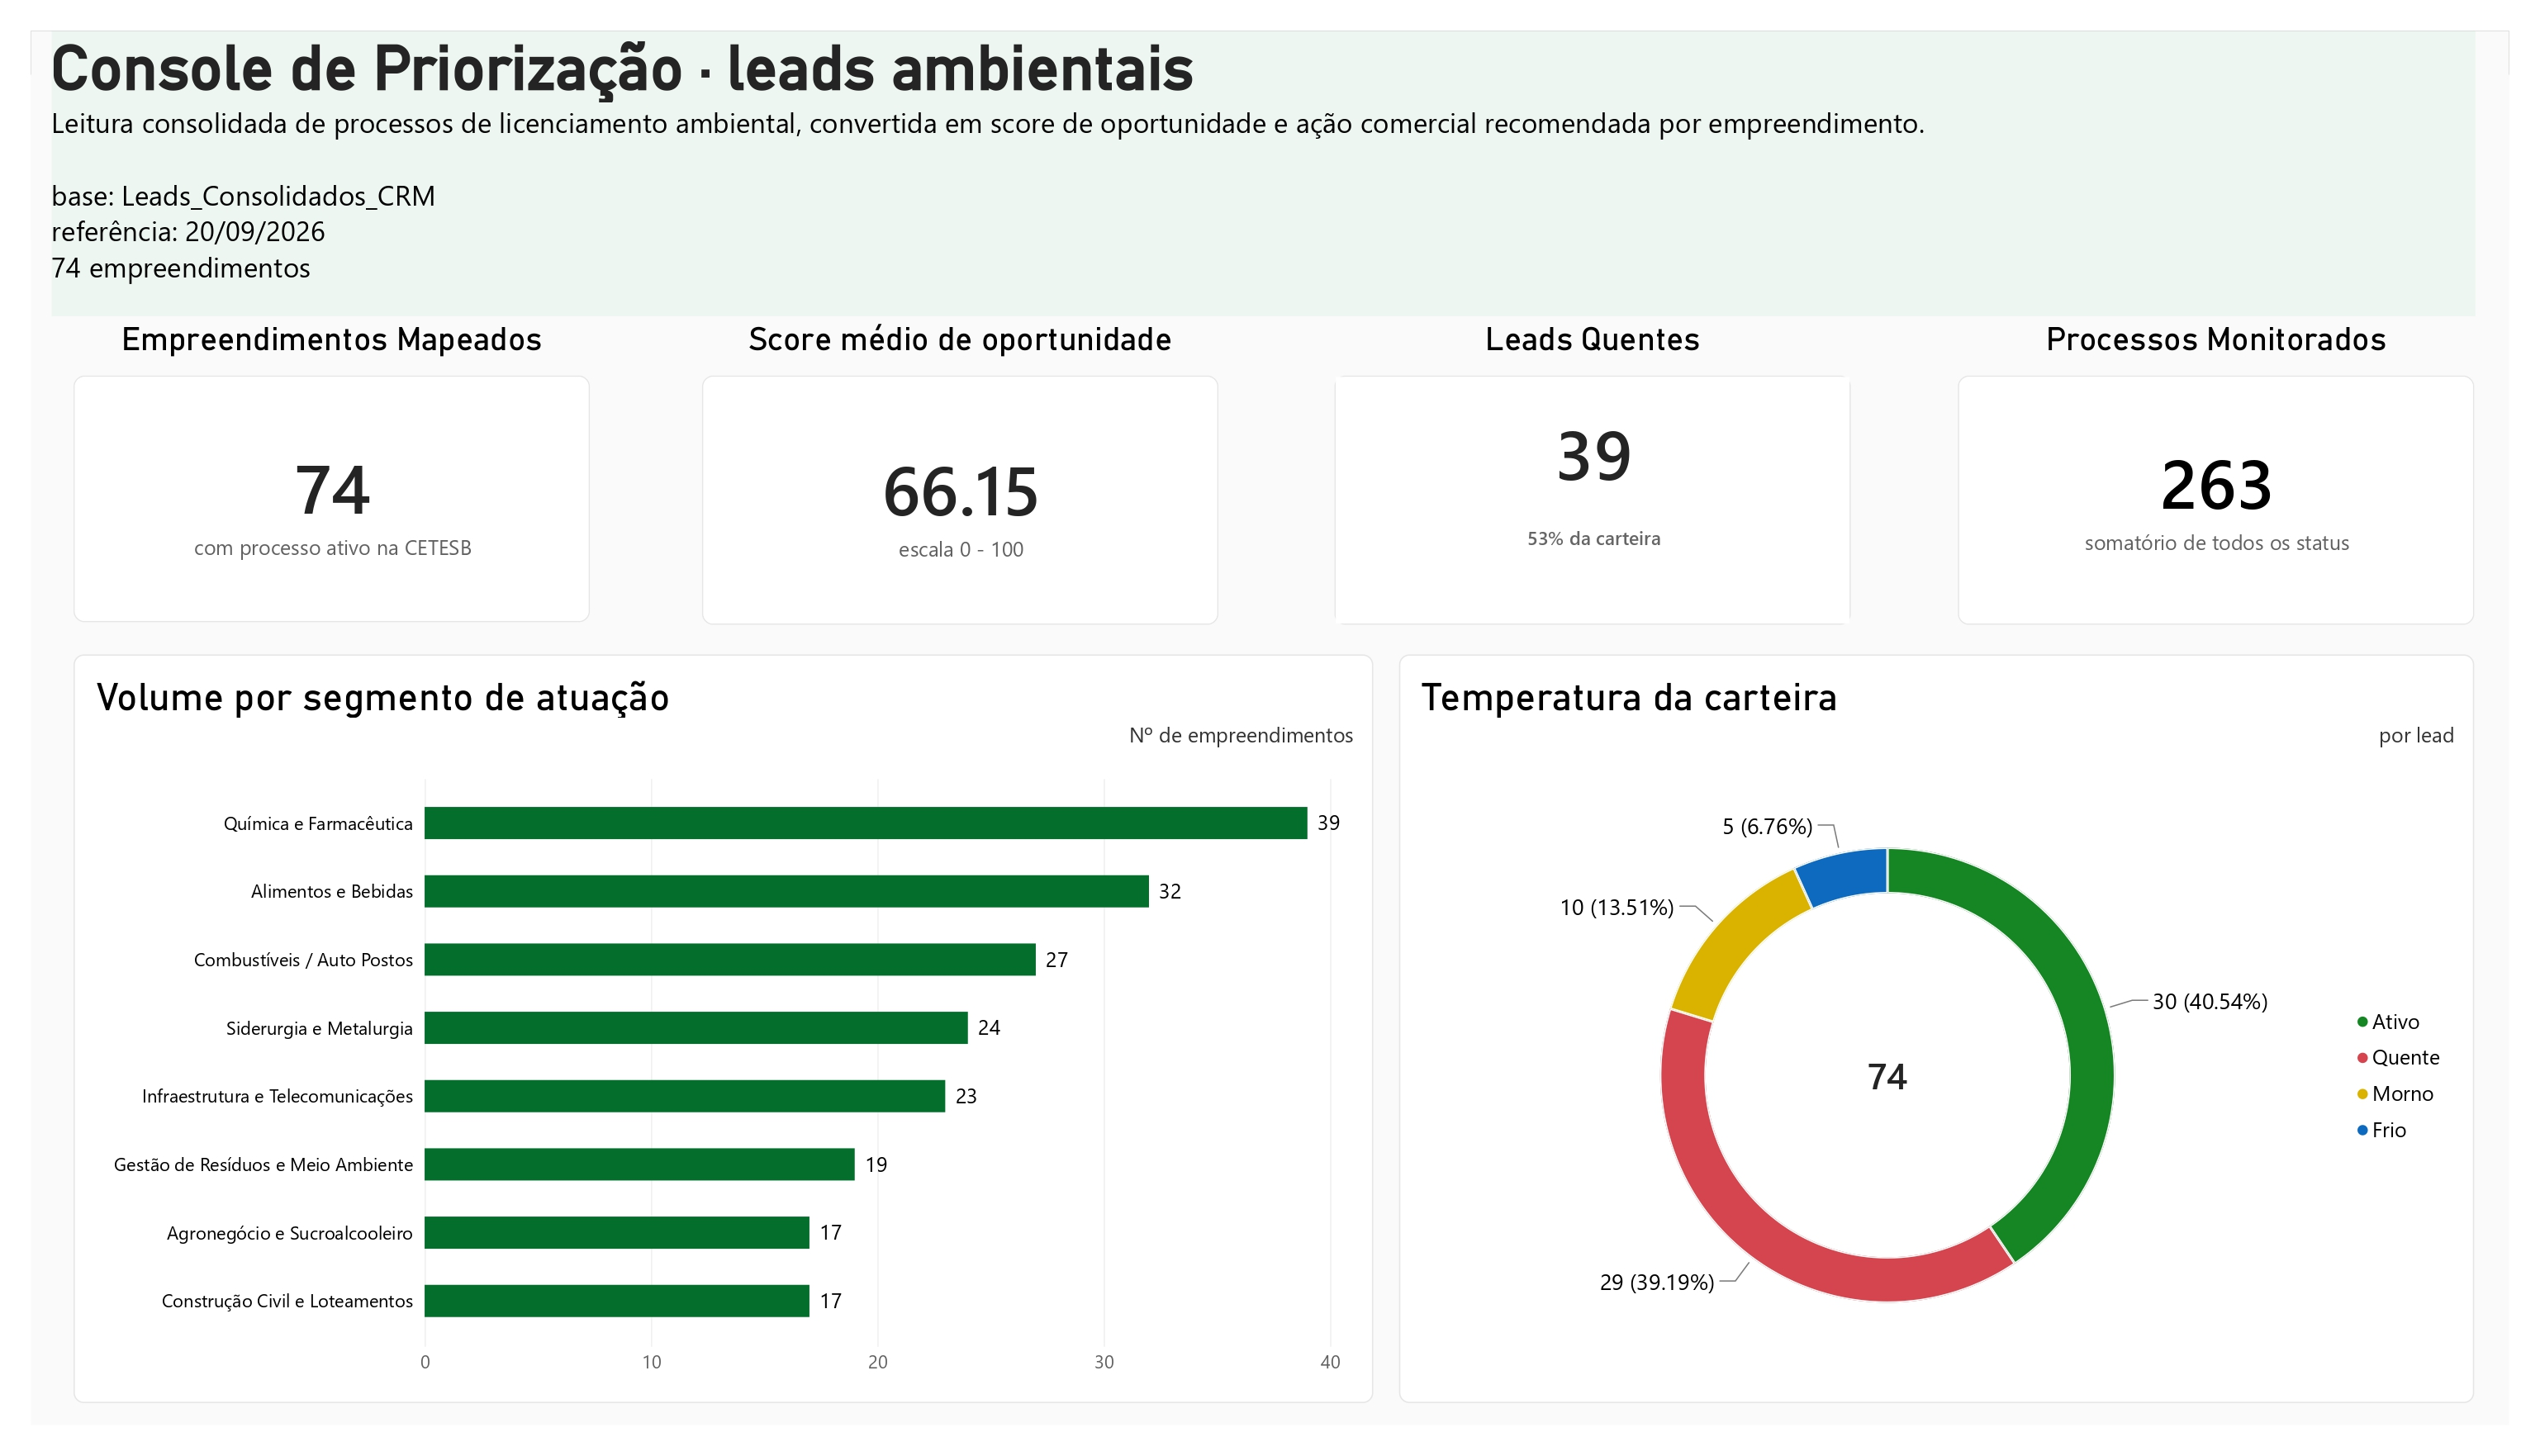

Layout of this report page (visuals, bound fields, positions):
{"tool":"powerbi","page":{"name":"Visão Geral","canvas":[1920,1080],"ordinal":0},"visuals":[{"type":"cardVisual","title":"Empreendimentos Mapeados","fields":{"Data":["Count(Leads_Consolidados_CRM.Empreendimento)"]},"box":[32.5,222.5,400,235],"z":0},{"type":"cardVisual","title":"Score médio de oportunidade","fields":{"Data":["Leads_Consolidados_CRM.Score Médio"]},"box":[520,222.5,400,237.5],"z":1000},{"type":"cardVisual","title":"Leads Quentes","fields":{"Data":["Leads_Consolidados_CRM.Leads Quentes"]},"box":[1010,222.5,400,237.5],"z":2000},{"type":"cardVisual","title":"Processos Monitorados","fields":{"Data":["Sum(Leads_Consolidados_CRM.Total_Processos)"]},"box":[1492.5,222.5,400,237.5],"z":3000},{"type":"clusteredBarChart","title":"Volume por segmento de atuação","fields":{"Category":["Resumo_Por_Segmento.Segmento_Atuacao"],"Y":["Sum(Resumo_Por_Segmento.Total_Processos)"]},"box":[32.5,482.5,1007.5,580],"z":4000},{"type":"donutChart","title":"Temperatura da carteira","fields":{"Category":["Leads_Consolidados_CRM.Temperatura_Label"],"Y":["Leads_Consolidados_CRM.Total Leads"]},"box":[1060,482.5,832.5,580],"z":5000},{"type":"textbox","title":"Console de Priorização · leads ambientais","box":[15.7,0,1878.2,221.3],"z":6000}]}

Visuals, with their boxes on the page's 1920x1080 design canvas (x1, y1, x2, y2). These are canvas units, not pixel positions in the 2540x1456 screenshot, which may show the page scaled, cropped or inside an application window:
"Empreendimentos Mapeados" cardVisual: bbox=(32, 222, 432, 458)
"Score médio de oportunidade" cardVisual: bbox=(520, 222, 920, 460)
"Leads Quentes" cardVisual: bbox=(1010, 222, 1410, 460)
"Processos Monitorados" cardVisual: bbox=(1492, 222, 1892, 460)
"Volume por segmento de atuação" clusteredBarChart: bbox=(32, 482, 1040, 1062)
"Temperatura da carteira" donutChart: bbox=(1060, 482, 1892, 1062)
"Console de Priorização · leads ambientais" textbox: bbox=(16, 0, 1894, 221)
